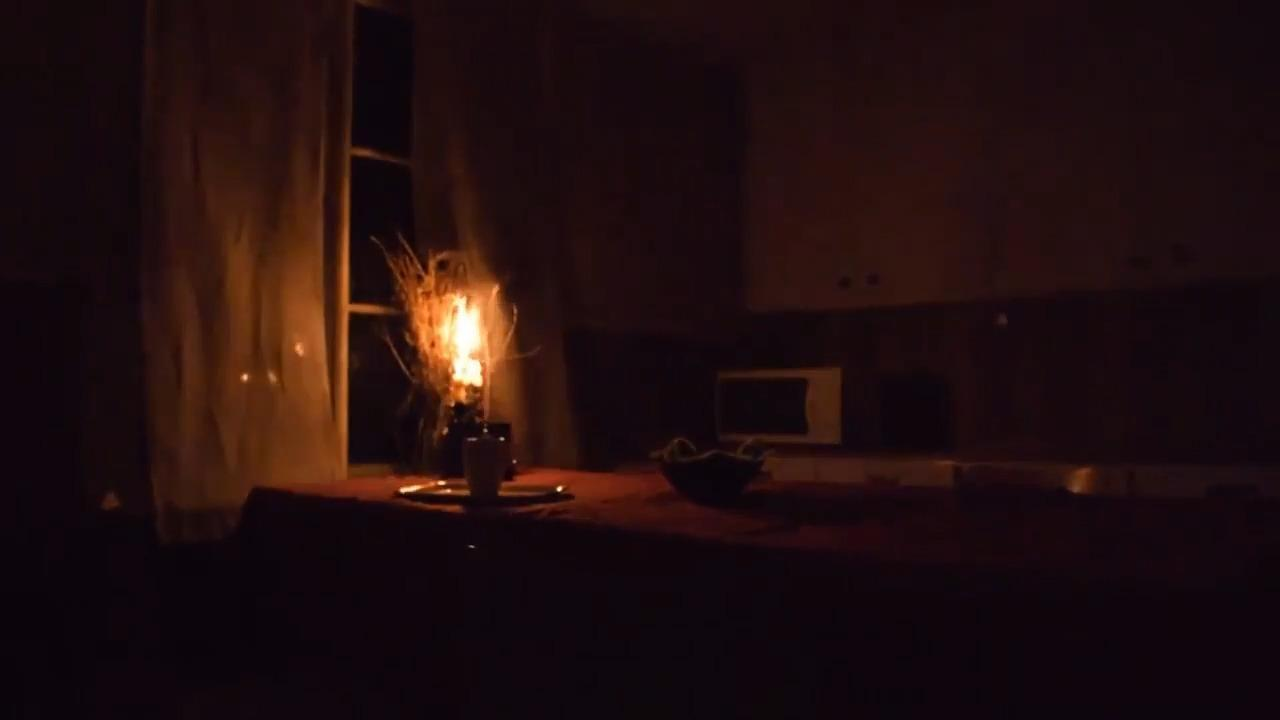fire: (438, 283, 501, 399)
